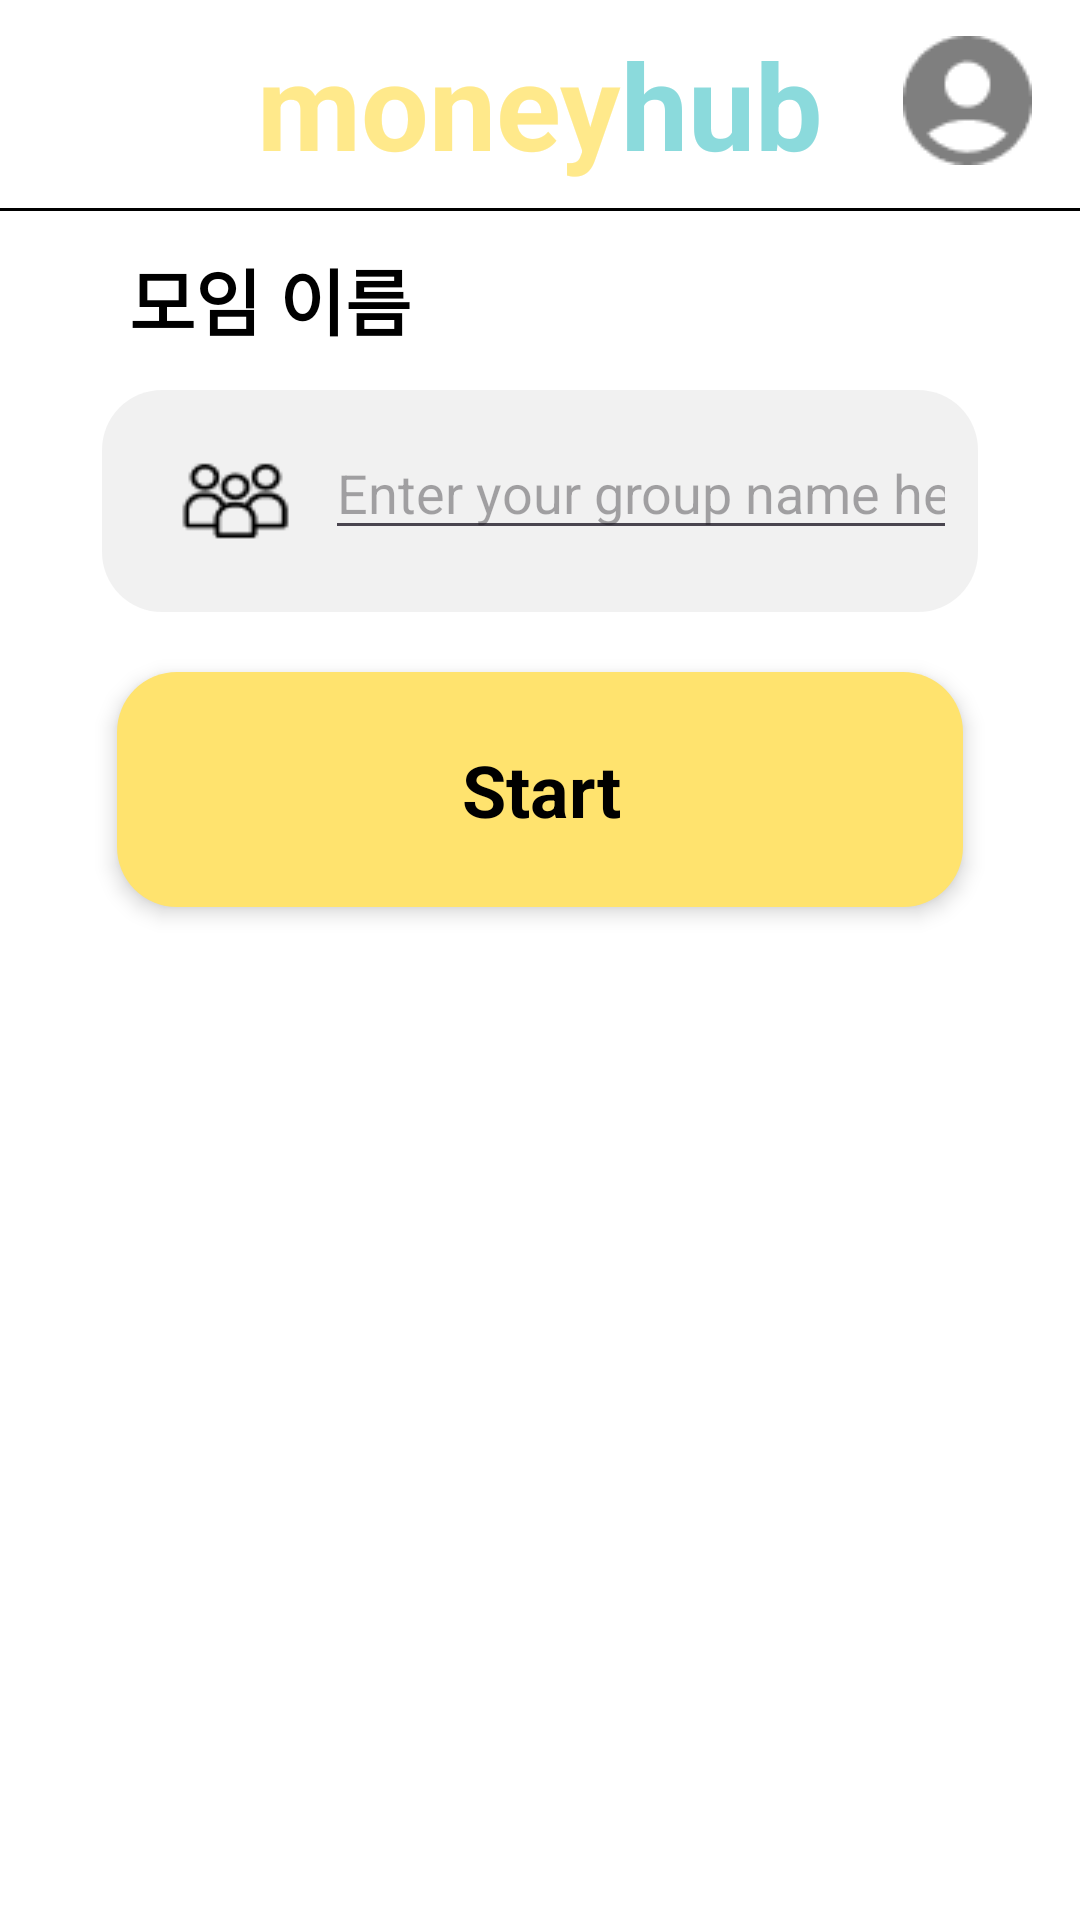

Screen size 1080 x 1920. Icon name, then its center in pixels as (x=x, y=y):
mypage: (x=967, y=100)
